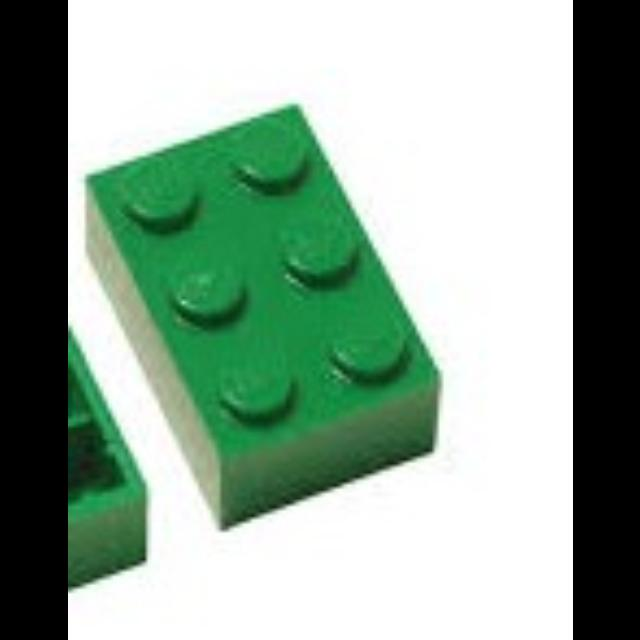2x3: (89, 109, 437, 522)
